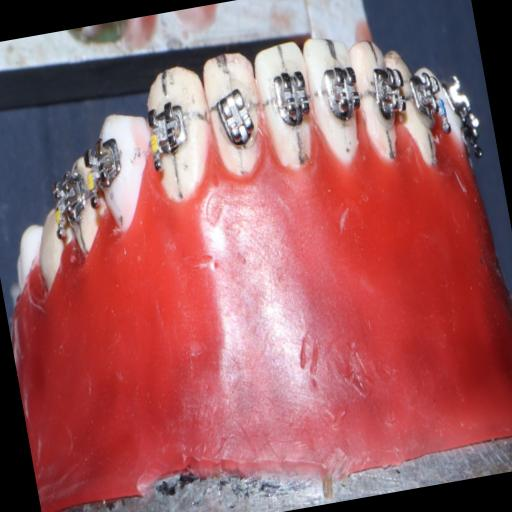correct_brace: (268, 62, 316, 131)
incorrect_brace: (196, 45, 274, 191), (139, 92, 198, 171), (210, 84, 260, 152)
